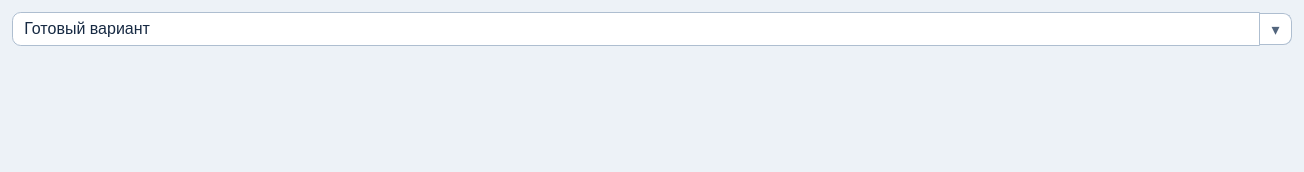
Test: updates the selected archived value only after an explicit successful list edit
Later steps or results of the test are not shown.
Click the button named "Показать сохранённые варианты: Врач" at {"x": 1276, "y": 29}, box [1260,13,1292,45]
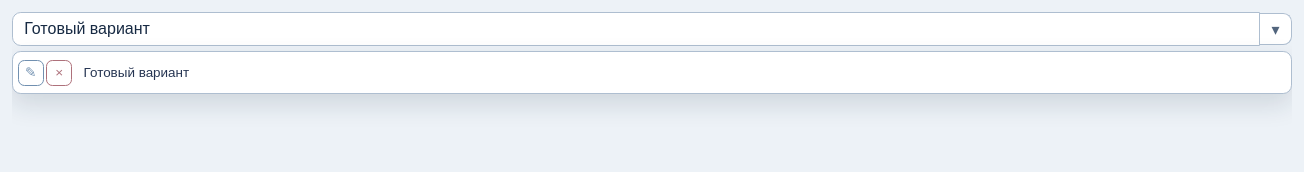
Result: the button "Готовый вариант" is shown at [75,57,1276,89]
